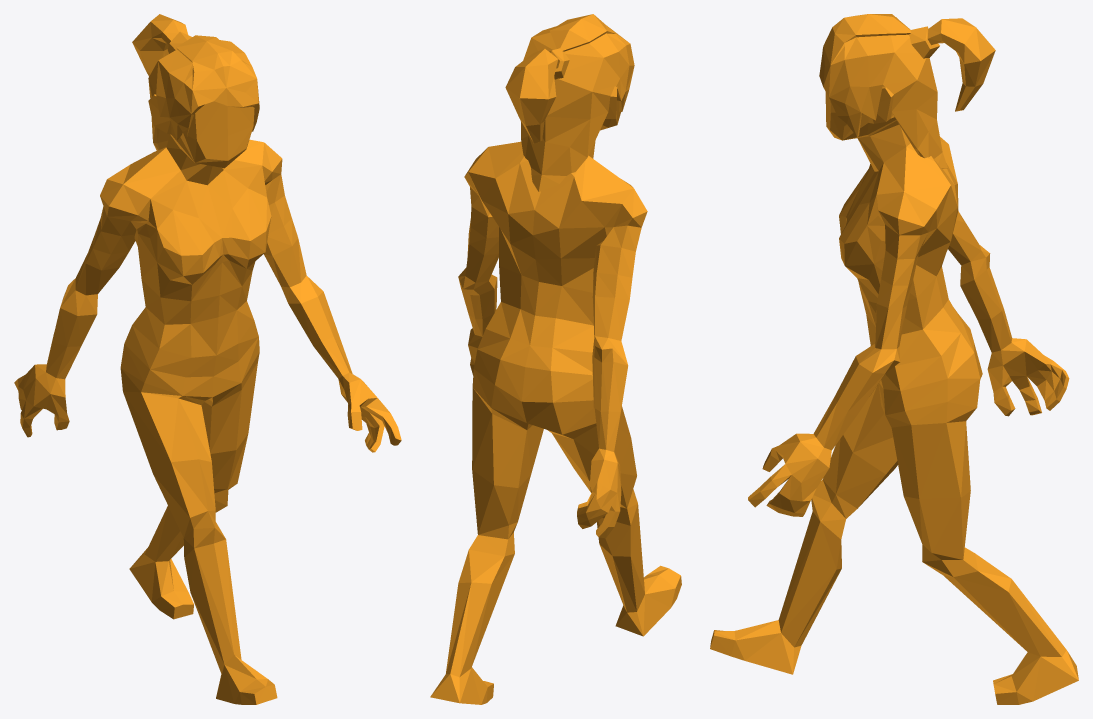
The model's file is SM_Pawn_Walk_Female_01.fbx.
3 renders of one model, left to right at view 1: azimuth 30°, elevation 25°; view 2: azimuth 150°, elevation 25°; view 3: azimuth 270°, elevation 25°, orthographic. The views are drawn at different scales.
Visible parts, largest first — view 1: SM_Pawn_Walk_Female_01; view 2: SM_Pawn_Walk_Female_01; view 3: SM_Pawn_Walk_Female_01.
Part boxes in pixels (box(x1,y1,x2,y2)): SM_Pawn_Walk_Female_01: box(14, 14, 401, 704); SM_Pawn_Walk_Female_01: box(430, 14, 681, 704); SM_Pawn_Walk_Female_01: box(710, 14, 1078, 704).
Bounding box in the file's own units: 73.73 × 177 × 88.61.
